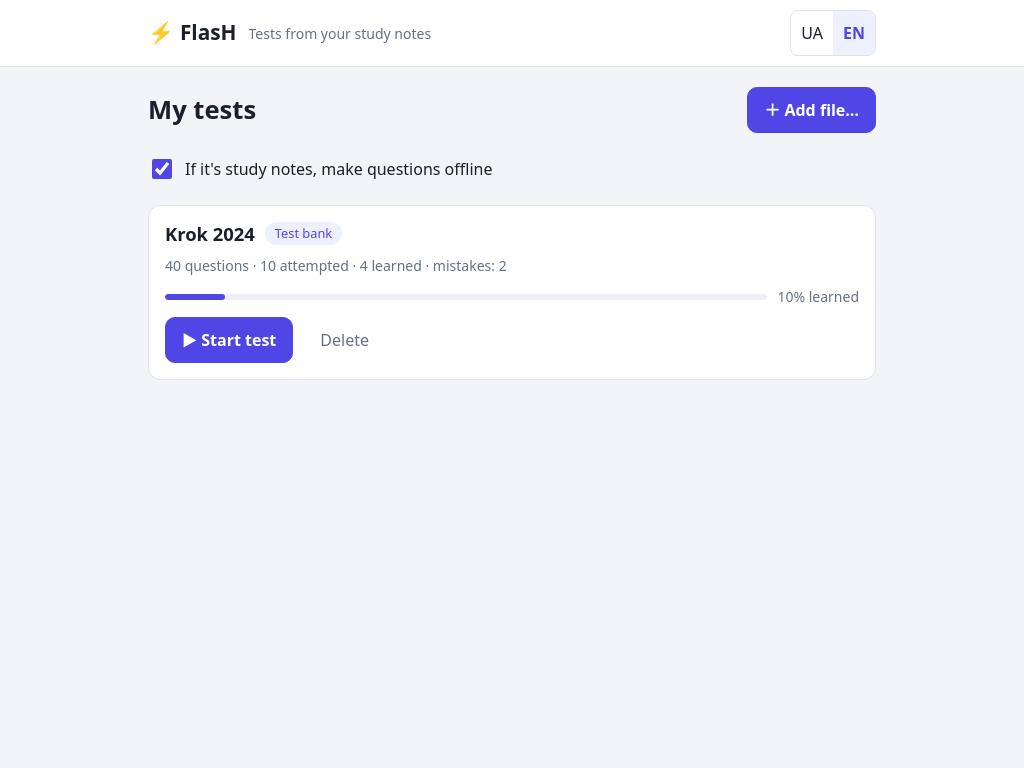
App › goes from the library to setup and starts a test with the chosen options
Click the button "▶ Start test" at (229, 340), box [165,317,293,363]
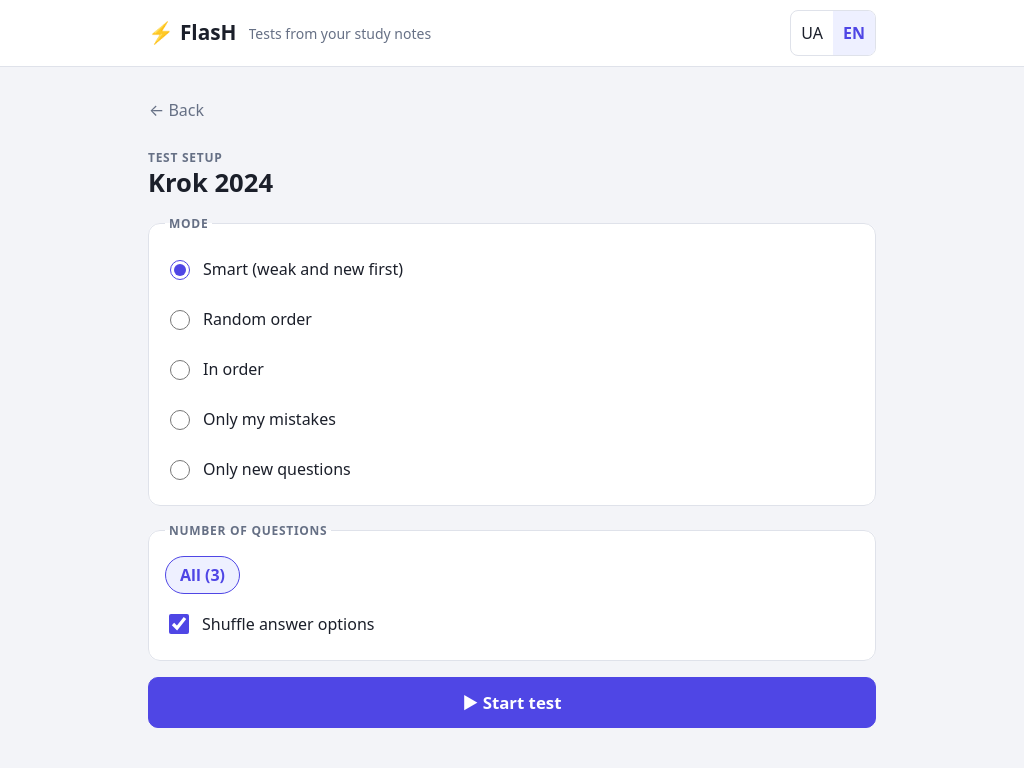
Now the text "Test setup" is shown, box [148,149,222,166]
Click the radio button labelled "In order" at (180, 370), box [170,360,190,380]
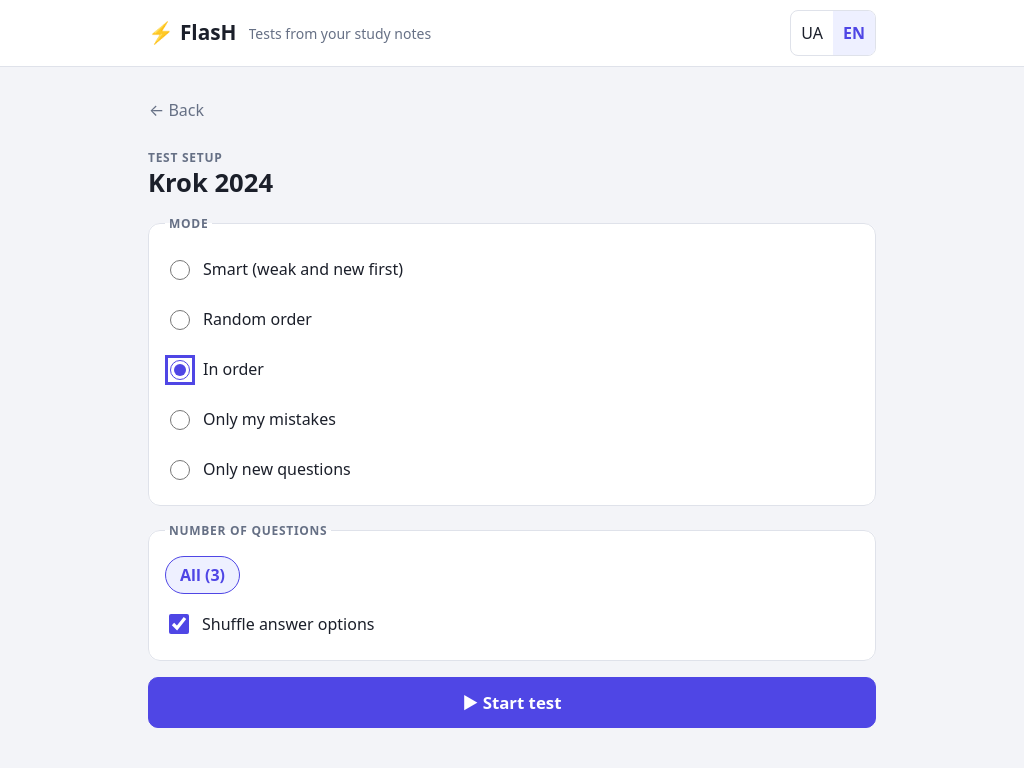
Click the checkbox labelled "Shuffle answer options" at (179, 624), box [169,614,189,634]
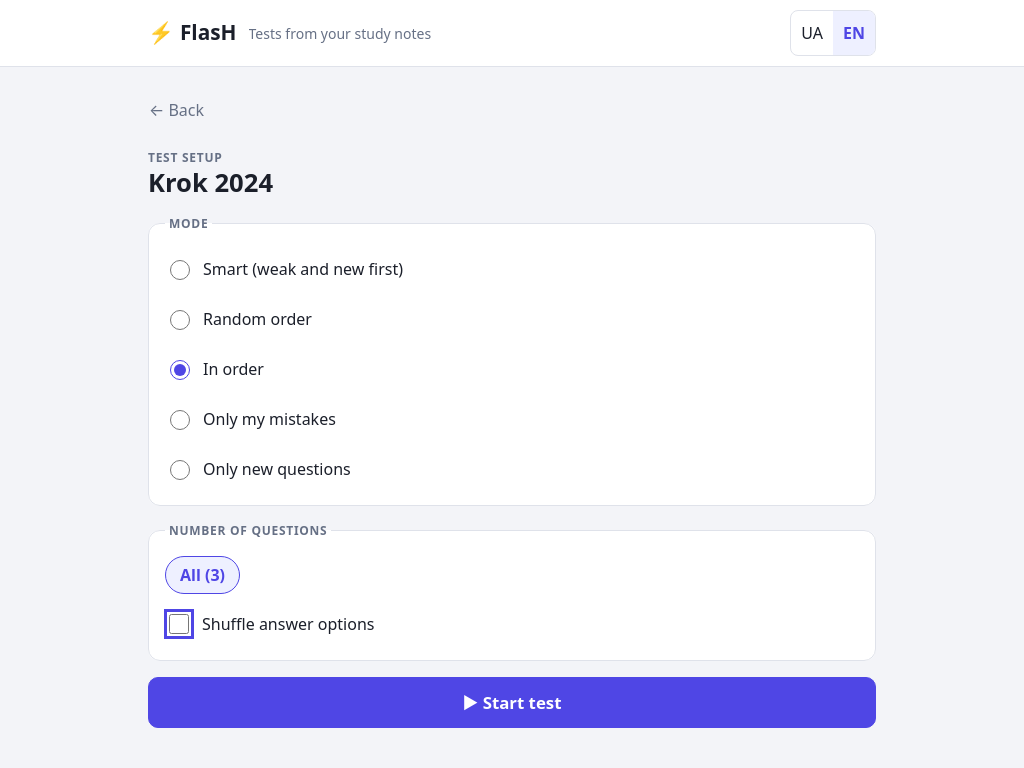
Click the button "▶ Start test" at (512, 703), box [148,677,876,728]
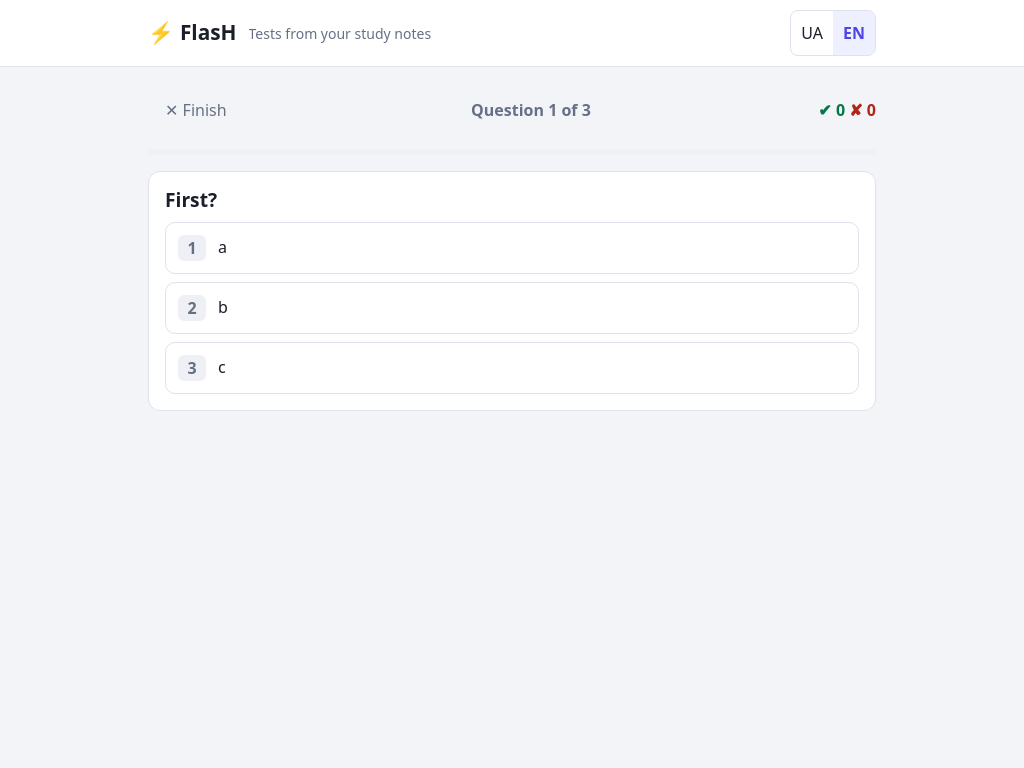
Now the heading "First?" is shown, box [165,186,217,213]
Click the button "⚡ FlasH" at (192, 33), box [148,17,236,49]
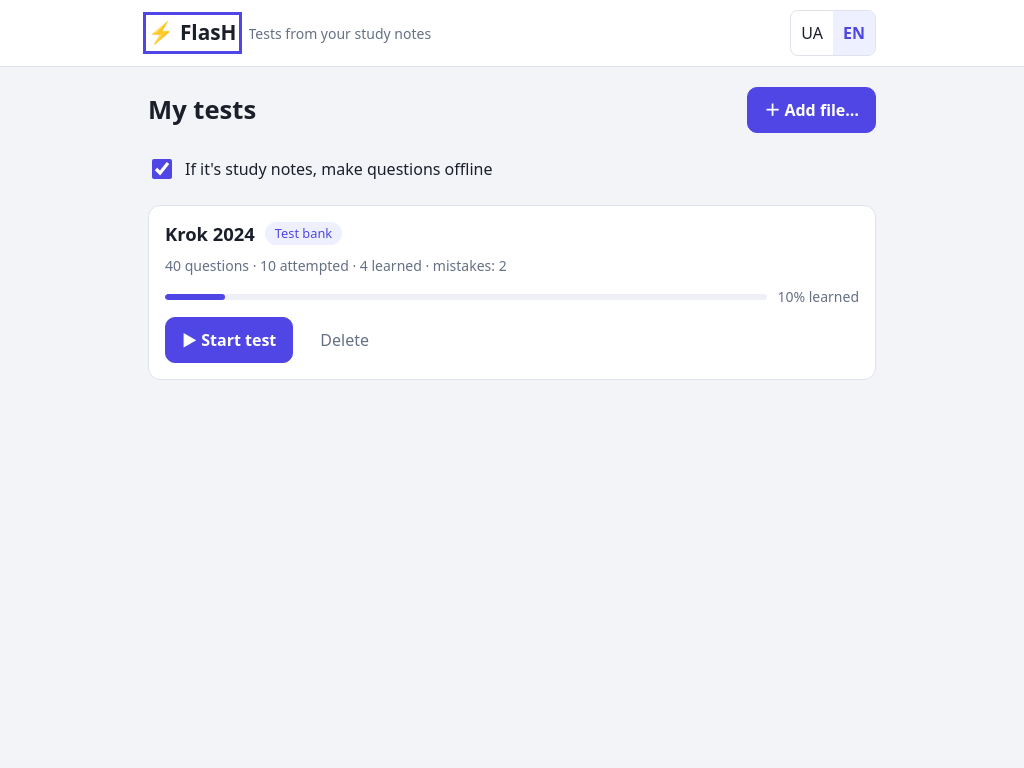
Now the heading "My tests" is shown, box [148,94,256,126]
